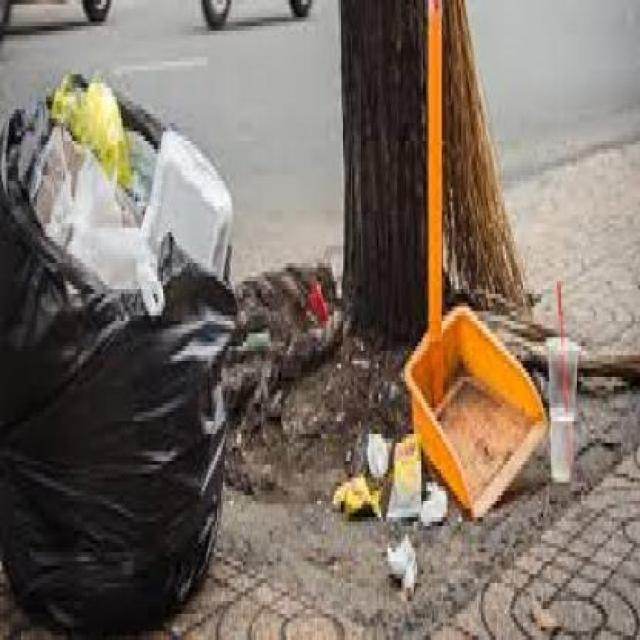garbage: (0, 56, 255, 635), (331, 389, 598, 613), (412, 255, 603, 400), (308, 268, 344, 334)
